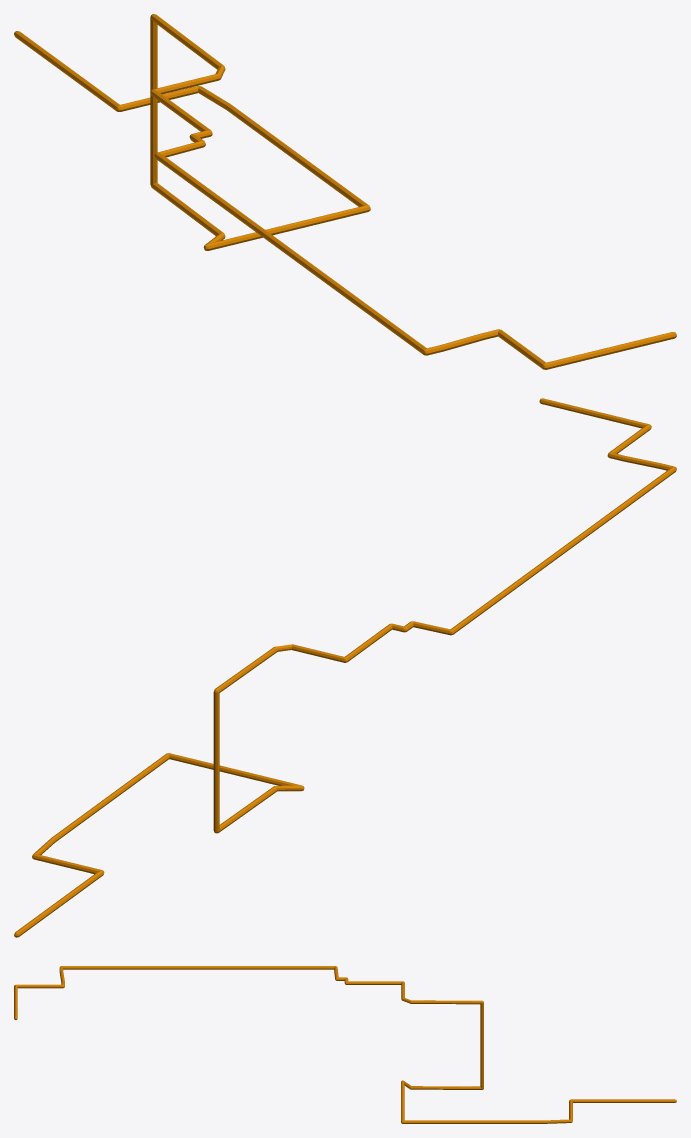
The picture shows the model from 3 angles, top to bottom: view 1: azimuth 30°, elevation 25°; view 2: azimuth 150°, elevation 25°; view 3: azimuth 270°, elevation 25°; orthographic projection. The views are drawn at different scales.
Bounding box in the file's own units: 878 × 520 × 3504.
